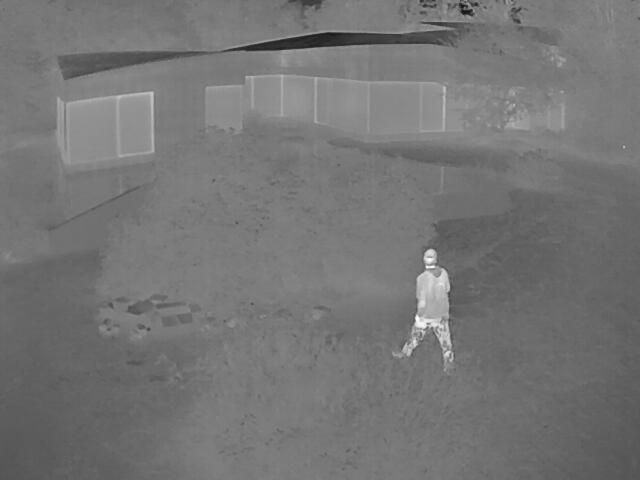person: (390, 248, 454, 376)
